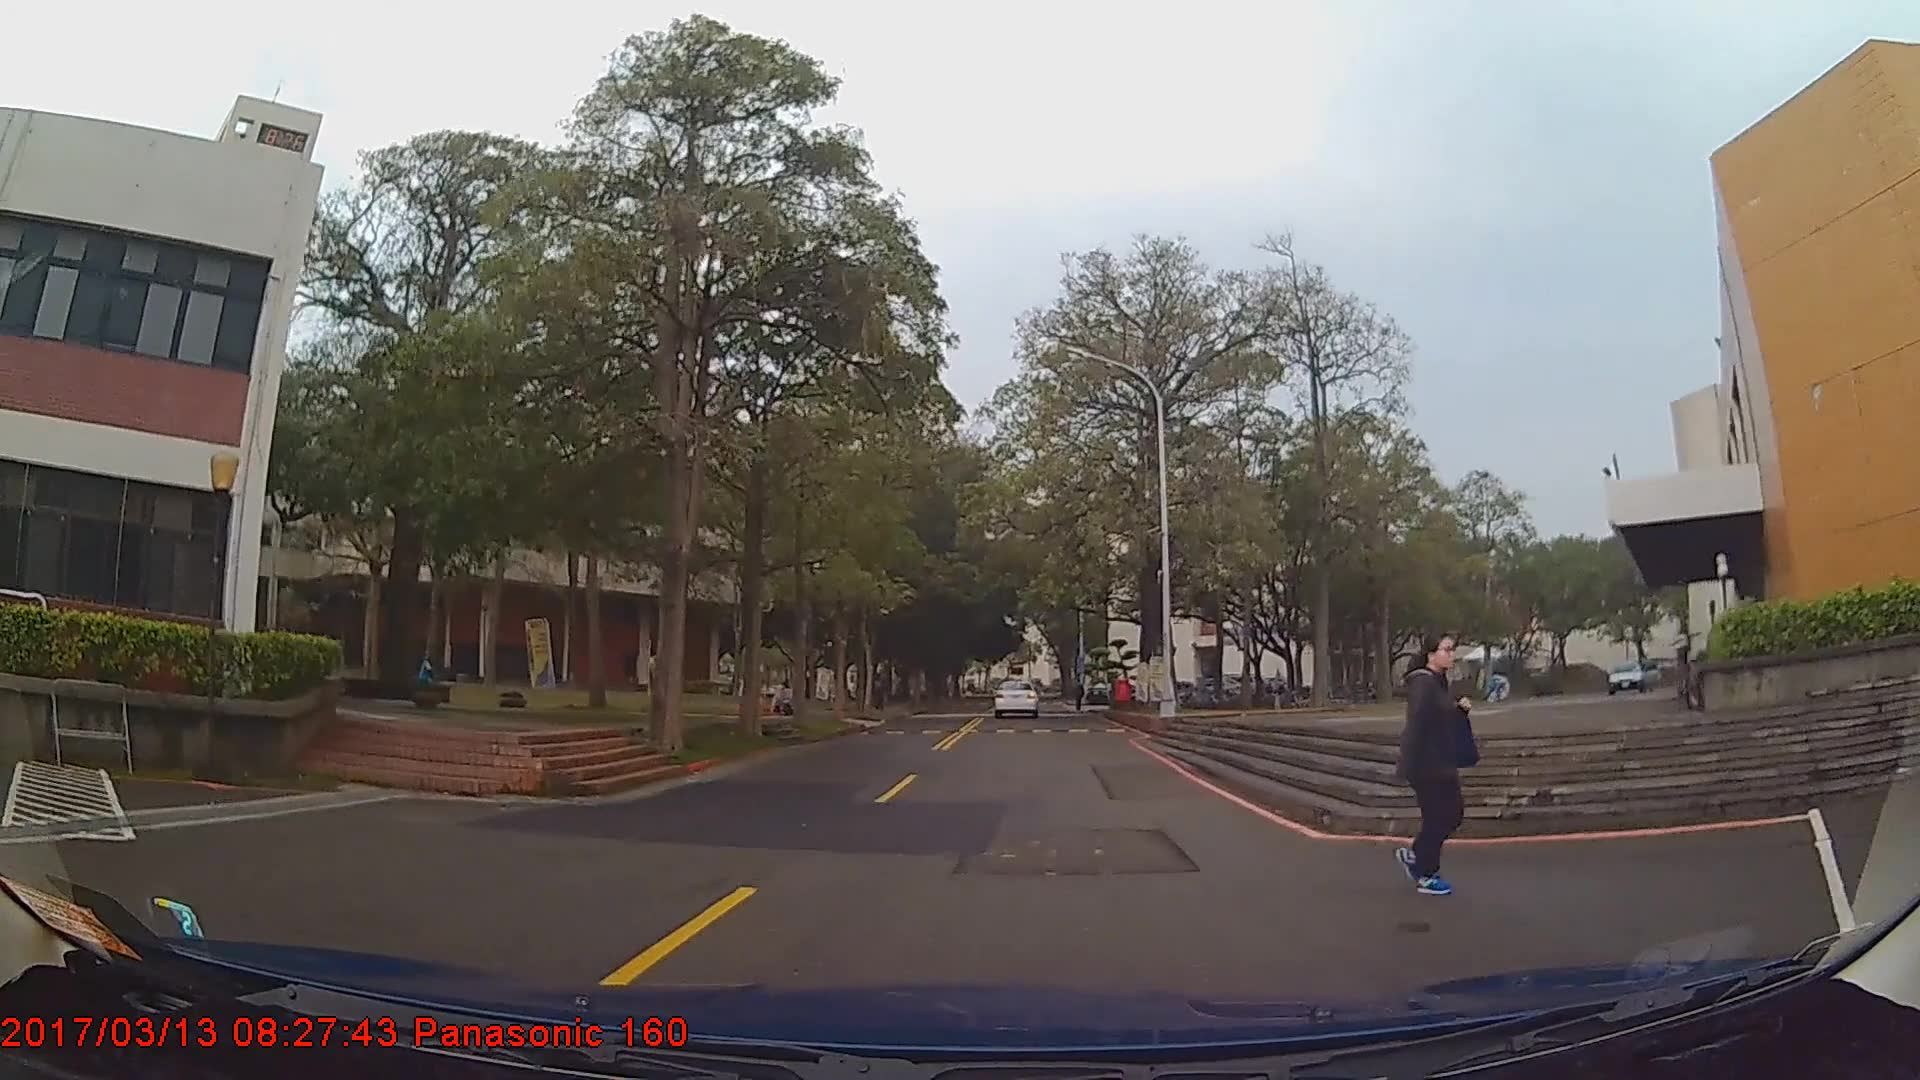pedestrian: (1380, 633, 1484, 899)
vehicle: (990, 677, 1038, 719)
